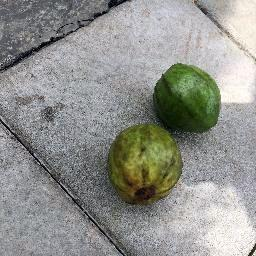guava: (107, 118, 186, 206), (150, 58, 223, 134)
